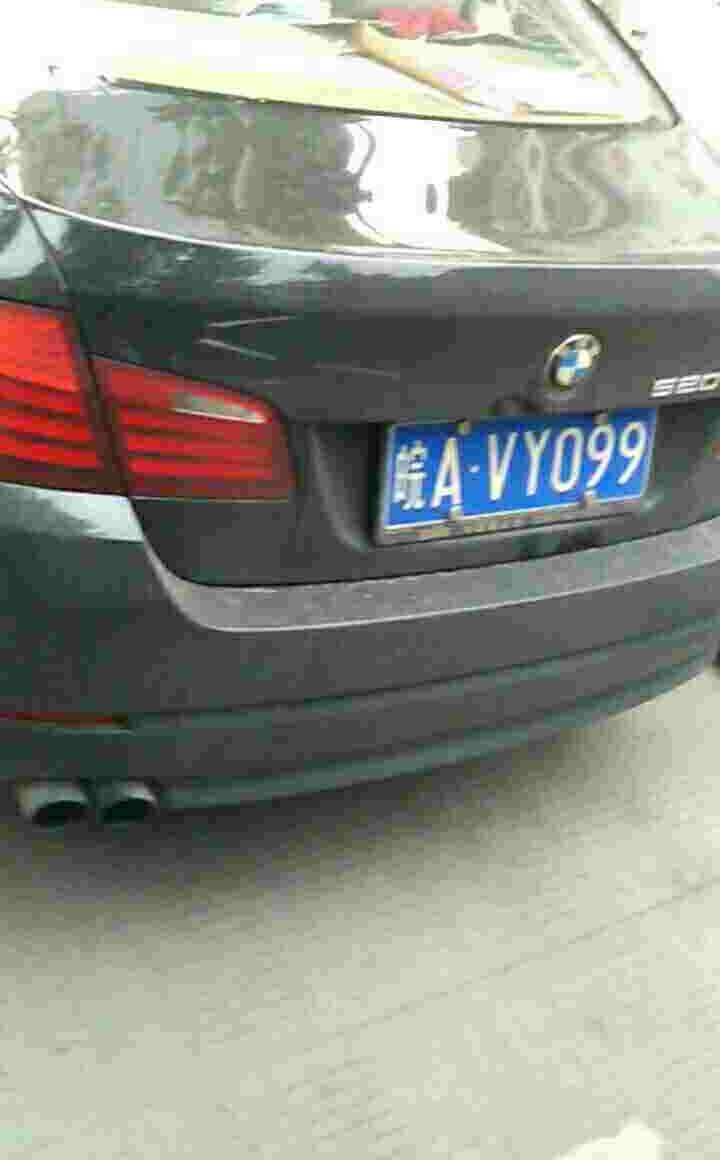license_plate: (392, 414, 662, 534)
